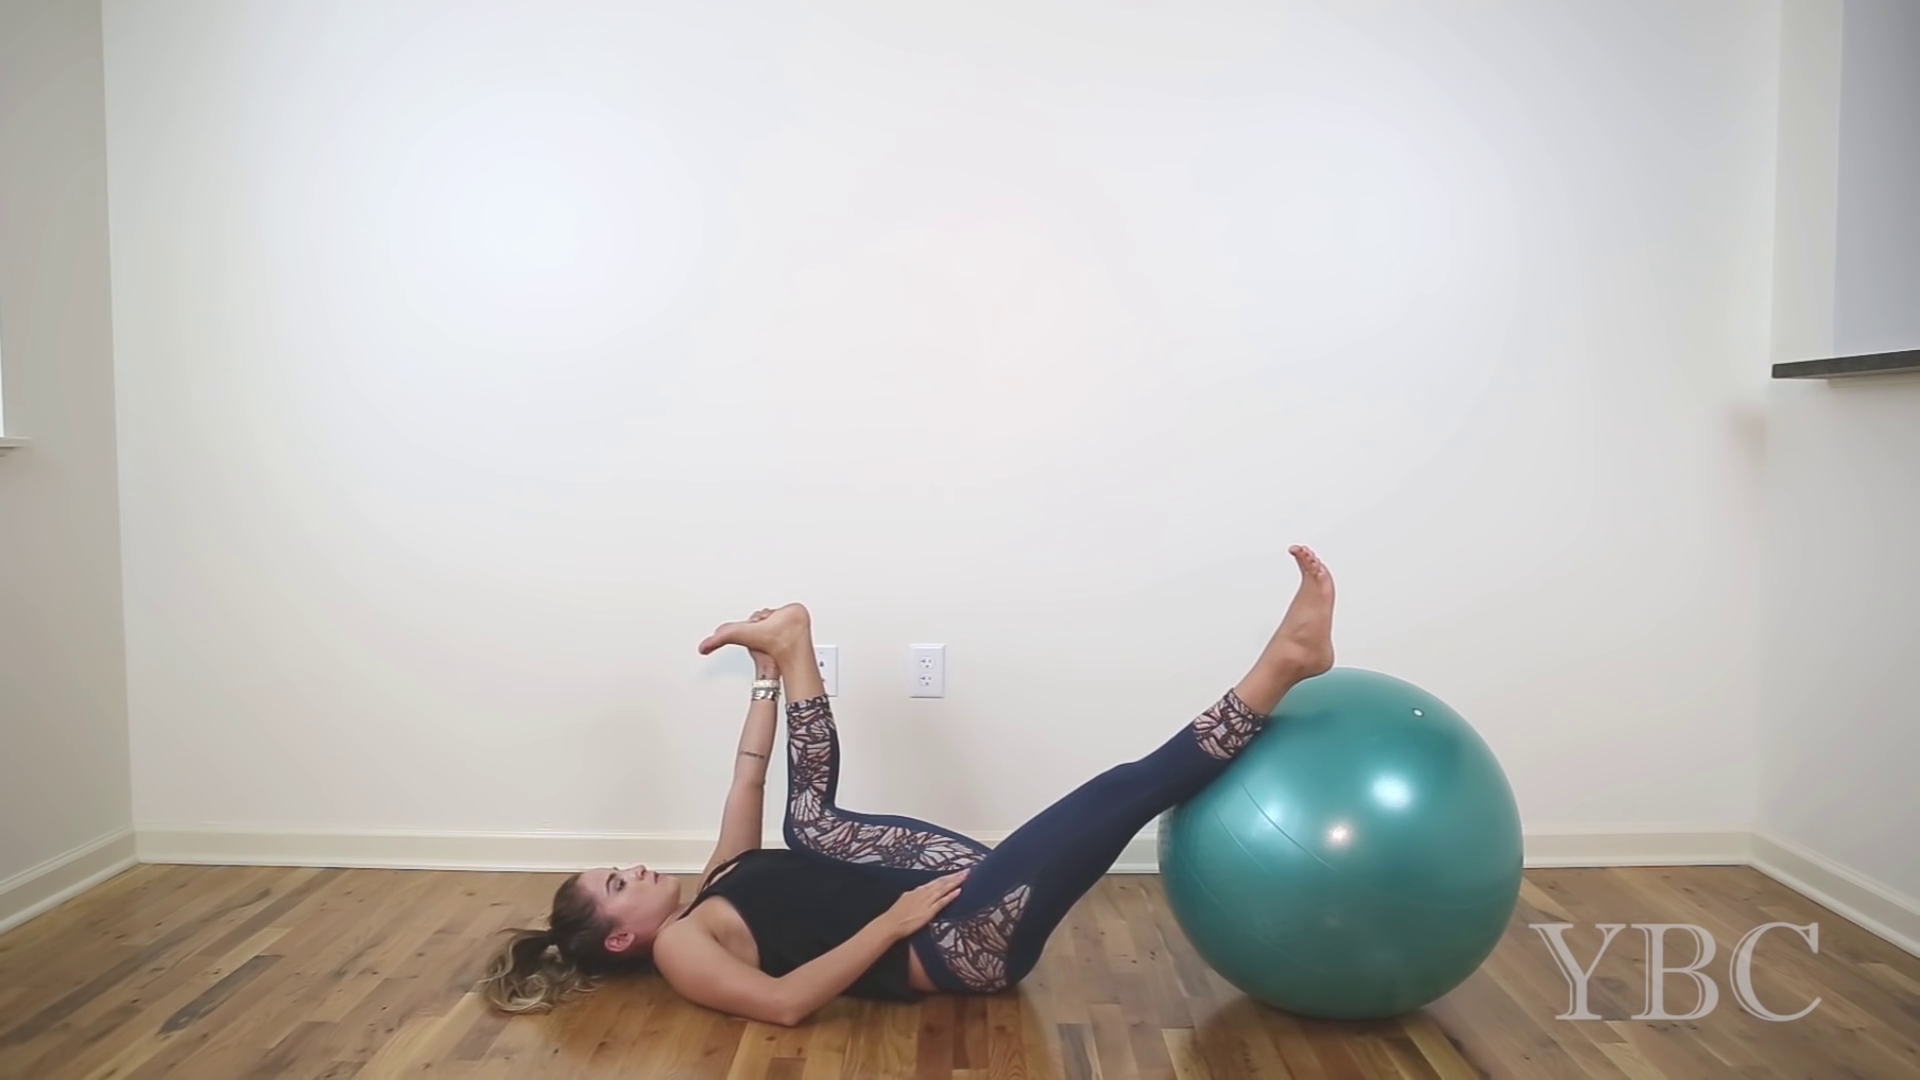yogaball: (1142, 658, 1539, 1036)
